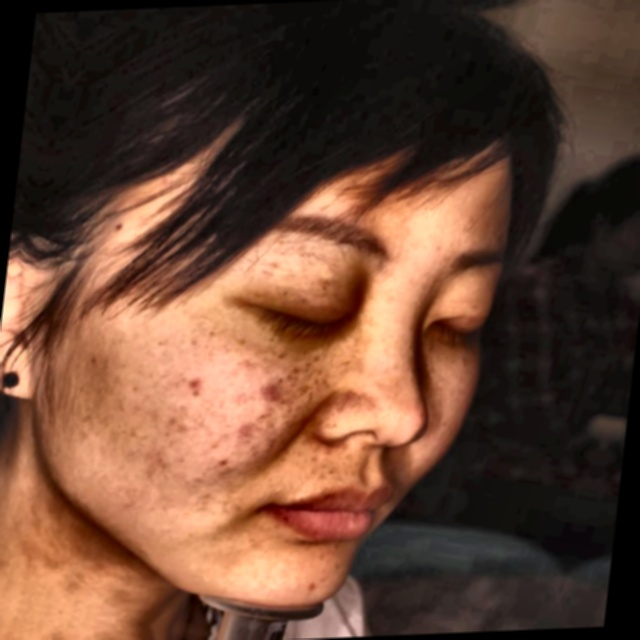comedone: (253, 374, 285, 411)
